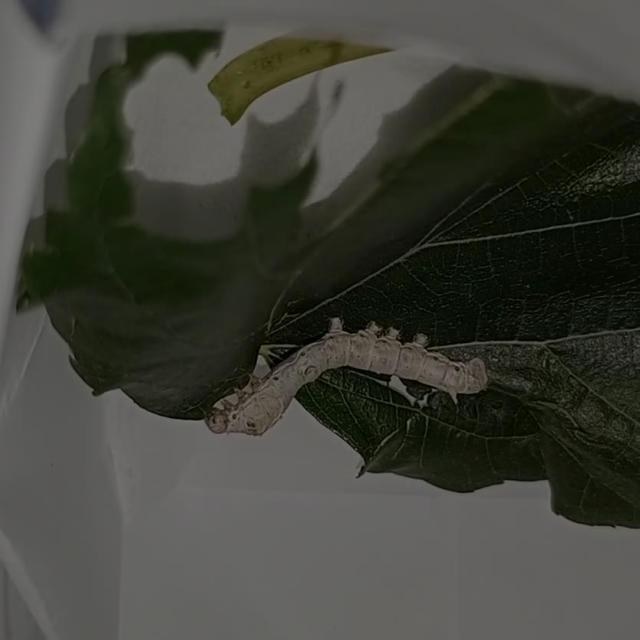Healthy: (171, 299, 507, 470)
